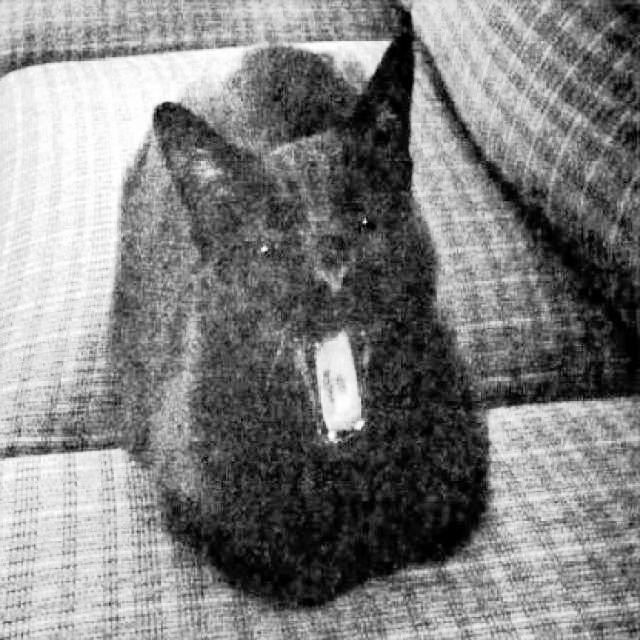Cat: (101, 0, 496, 612)
